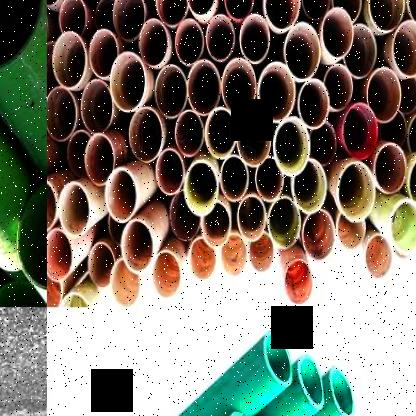pipe: (17, 177, 47, 290), (0, 0, 44, 74), (257, 61, 296, 124), (273, 116, 310, 177), (109, 51, 146, 112), (338, 162, 376, 221), (284, 22, 321, 80), (342, 102, 378, 161), (221, 58, 256, 115), (186, 59, 220, 117), (52, 30, 86, 88), (129, 106, 164, 162), (292, 159, 328, 213), (236, 111, 270, 167), (368, 67, 402, 123), (343, 23, 377, 79), (184, 160, 218, 215), (58, 180, 90, 238), (105, 167, 138, 223), (80, 78, 113, 134), (266, 196, 300, 250), (204, 107, 238, 160), (122, 218, 154, 274), (154, 64, 186, 118), (302, 209, 335, 261), (374, 142, 407, 194), (321, 7, 354, 58), (264, 331, 294, 387), (47, 86, 77, 141), (169, 189, 200, 242), (84, 133, 115, 186), (298, 79, 330, 130), (109, 256, 141, 307), (239, 14, 270, 64), (201, 199, 232, 248), (298, 354, 325, 410), (89, 28, 119, 78), (155, 148, 185, 197), (390, 199, 416, 255), (219, 154, 249, 202), (138, 18, 168, 66), (112, 0, 146, 42), (205, 13, 234, 62), (174, 18, 204, 65), (237, 194, 266, 242), (255, 155, 284, 203), (175, 110, 204, 158), (323, 64, 353, 110), (152, 250, 180, 299), (88, 241, 116, 289), (392, 20, 416, 76), (284, 259, 313, 305), (47, 228, 71, 282), (309, 121, 337, 167), (330, 366, 355, 416), (0, 281, 47, 307), (365, 233, 391, 280), (189, 236, 216, 281), (220, 232, 247, 276), (368, 0, 405, 32), (336, 211, 366, 250), (262, 0, 301, 30), (248, 230, 274, 272), (58, 0, 86, 36), (154, 0, 188, 25), (331, 0, 361, 22), (399, 77, 416, 114), (223, 0, 254, 20), (47, 178, 58, 234), (47, 266, 62, 307), (300, 0, 329, 20), (58, 291, 92, 307), (408, 152, 416, 214), (186, 0, 216, 15), (407, 111, 416, 151), (406, 0, 416, 28)
